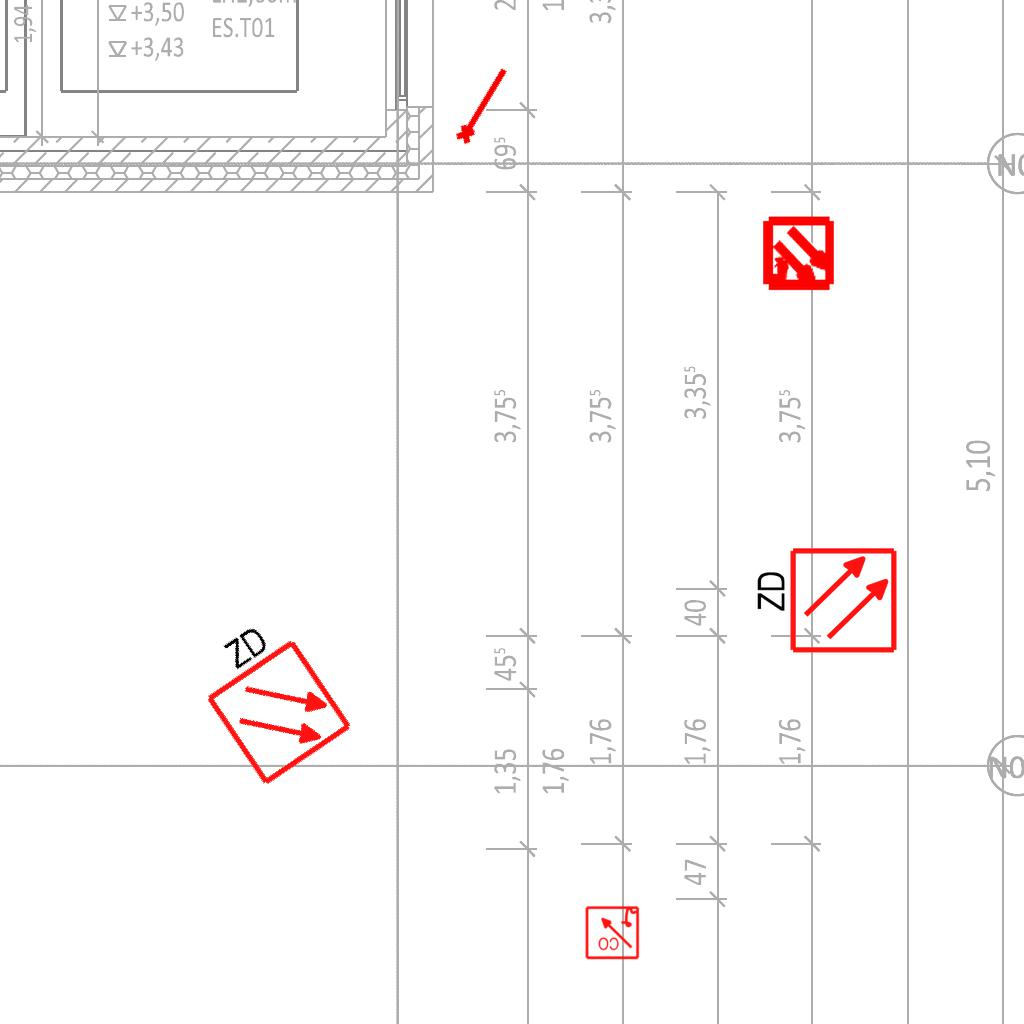ASR_Ansaugoeffnung: (449, 60, 515, 149)
OT_Multisensormelder_(Kombination_RMO_WMD): (742, 199, 855, 312)
ROA_Rauchmelder_optisch_mit_Signalgeber_(Sockelsirene): (584, 904, 640, 960)
ZD_Melder_in_Zwischendecke_mit_Revisionsoeffnung_mind_40_x_40_cm: (178, 603, 356, 792), (750, 545, 899, 659)
